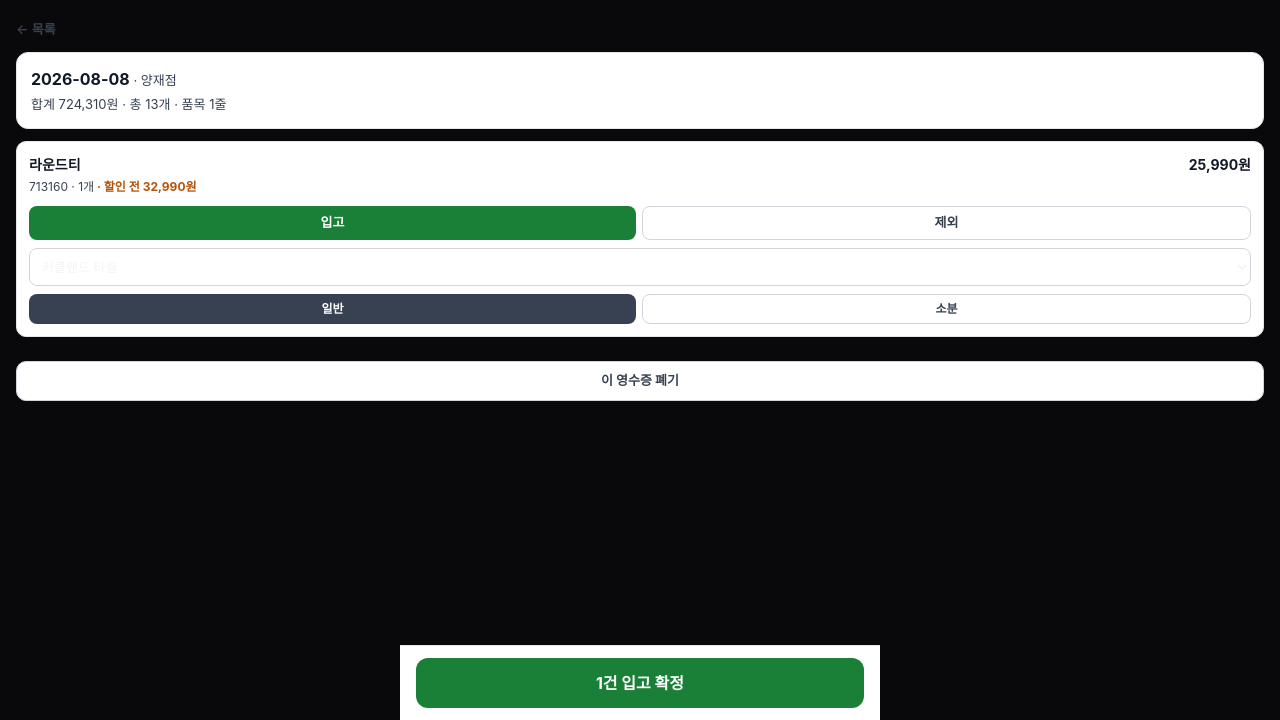
Test: ReceiptDetail › 🔴 실사 이전 구매라 원장 입고를 건너뛴 SKU를 알린다
The image size is (1280, 720).
Click the button "1건 입고 확정": (640,683) [416, 658, 864, 708]
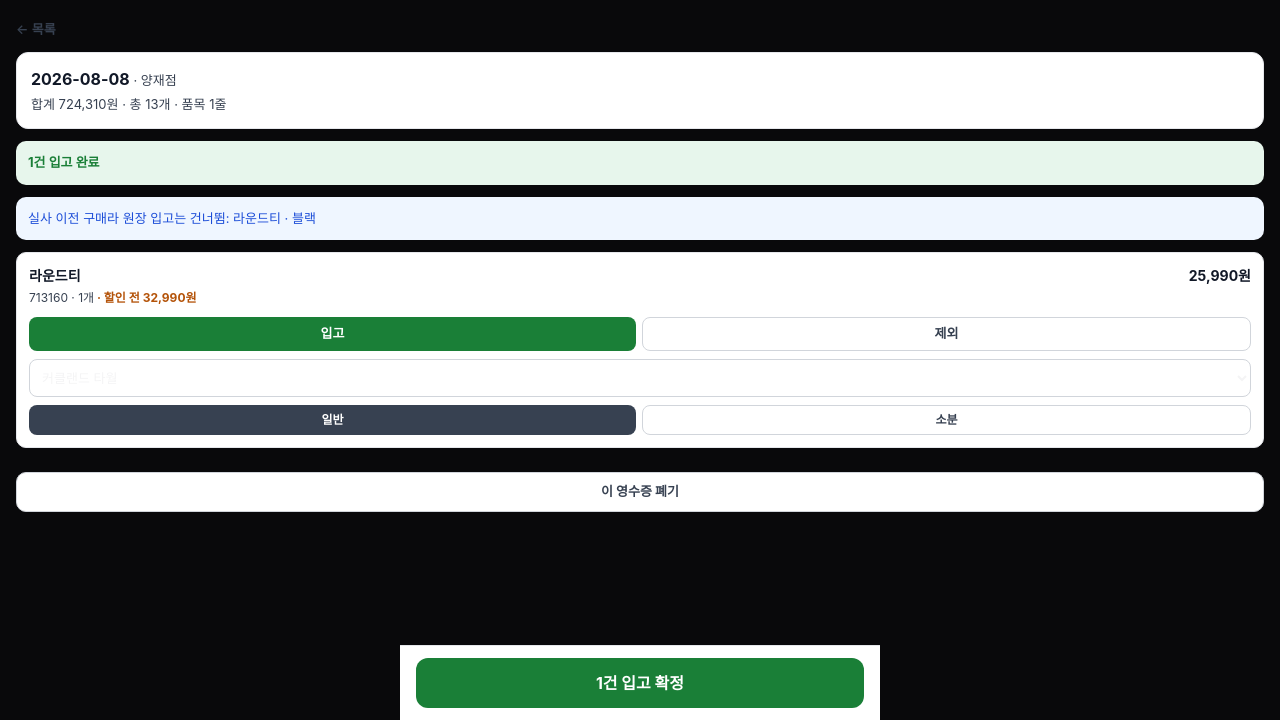
Expected: the text "1건 입고 완료" is shown, [16, 141, 1264, 184]
Expected: the message reads "실사 이전 구매라 원장 입고는 건너뜀: 라운드티 · 블랙", [28, 210, 316, 226]
